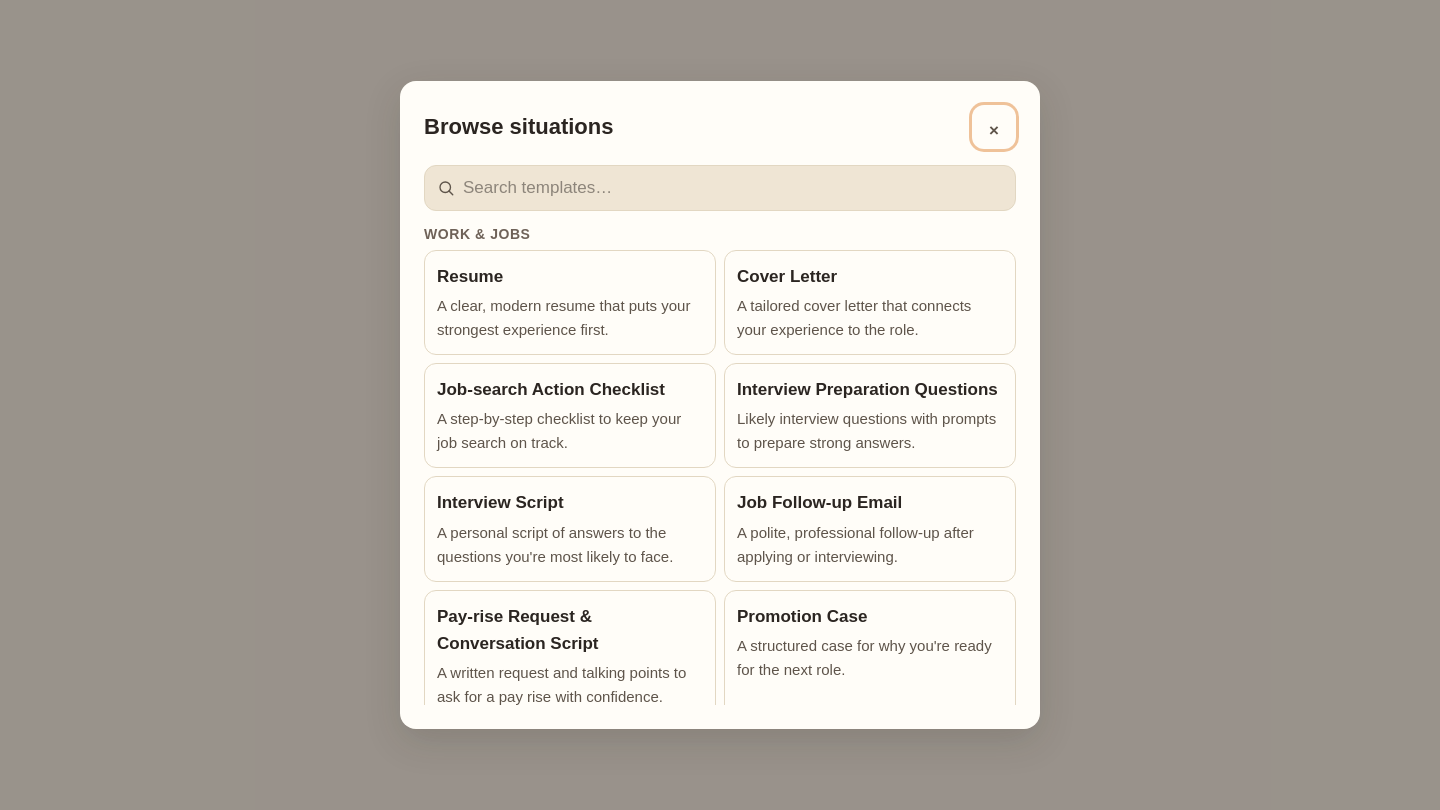
Scenario: BrowseModal — template catalogue › filters templates by search query
Type "budget" into the search field labelled "Search templates". click: (733, 188)
box: [463,166,1003,210]
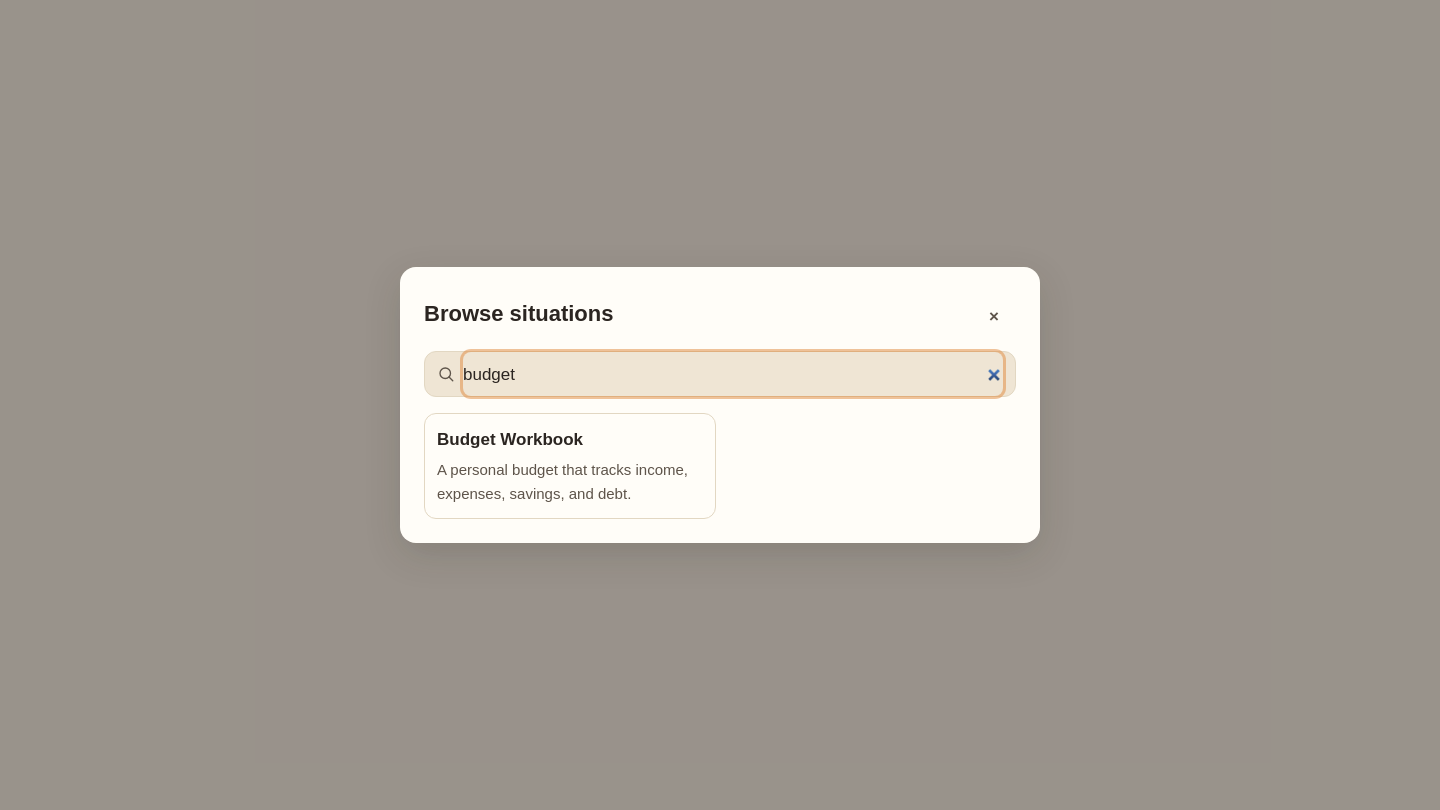
Expected: the button "Budget Workbook" is shown, [424,413,716,519]
Expected: the button "Resume" is gone
